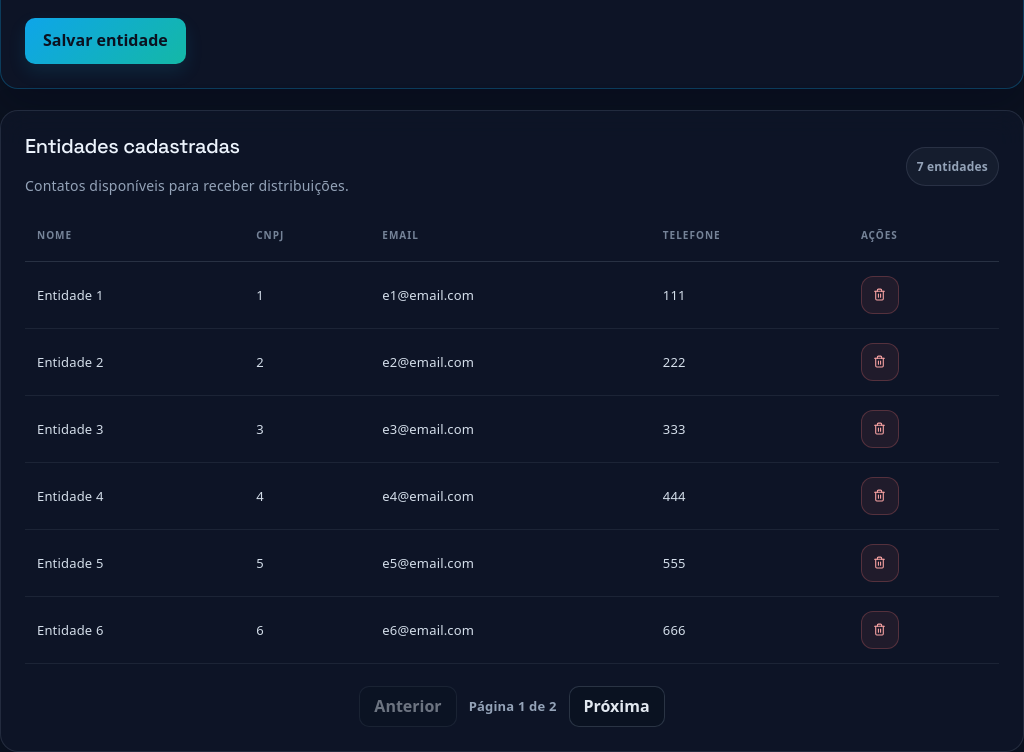
Test: pagina a lista de entidades quando ha mais registros que o limite
This screenshot has width=1024, height=752.
(page scrolled)
Check: the text "Entidade 1" is shown, box [25,261,244,328]
Check: the text "Entidade 7" is not shown
Step 1. Click the button "Próxima" → (617, 706), box [568,686,665,727]
(page scrolled)
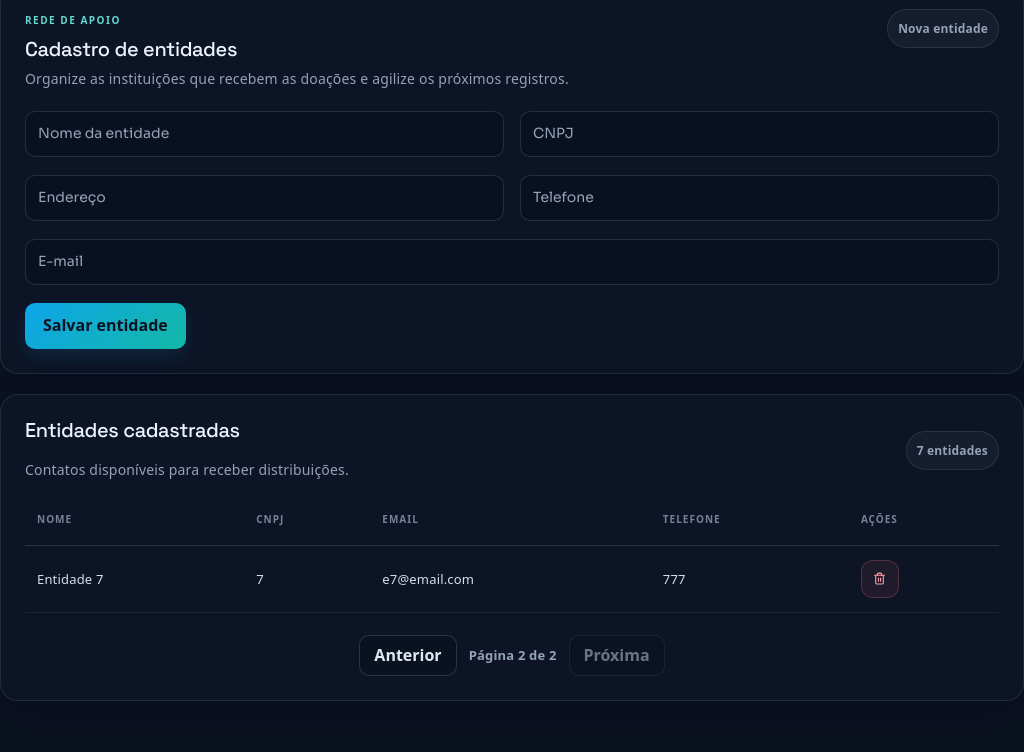
Check: the text "Entidade 7" is shown, box [25,545,244,612]
Check: the text "Entidade 1" is gone
